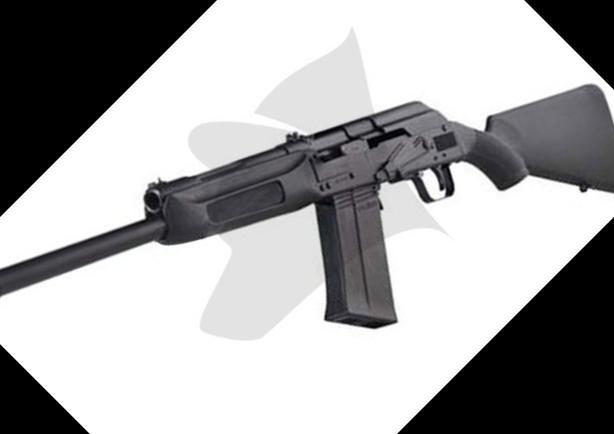larga: (0, 82, 614, 332)
